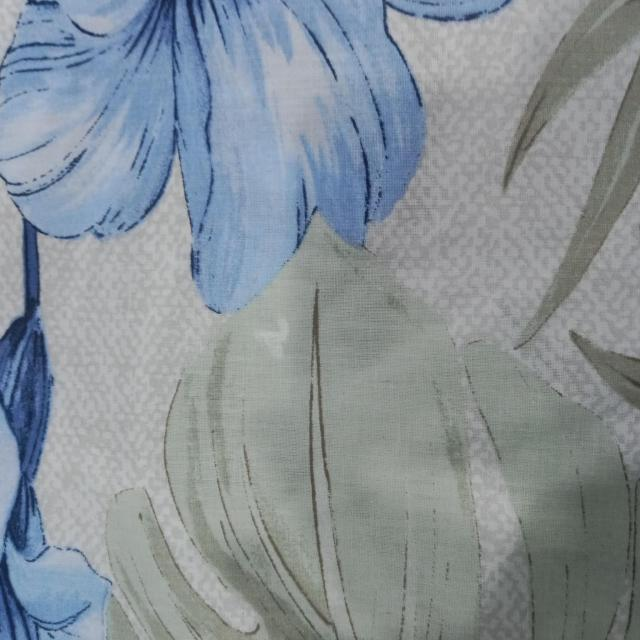baekra: (273, 72, 599, 608)
